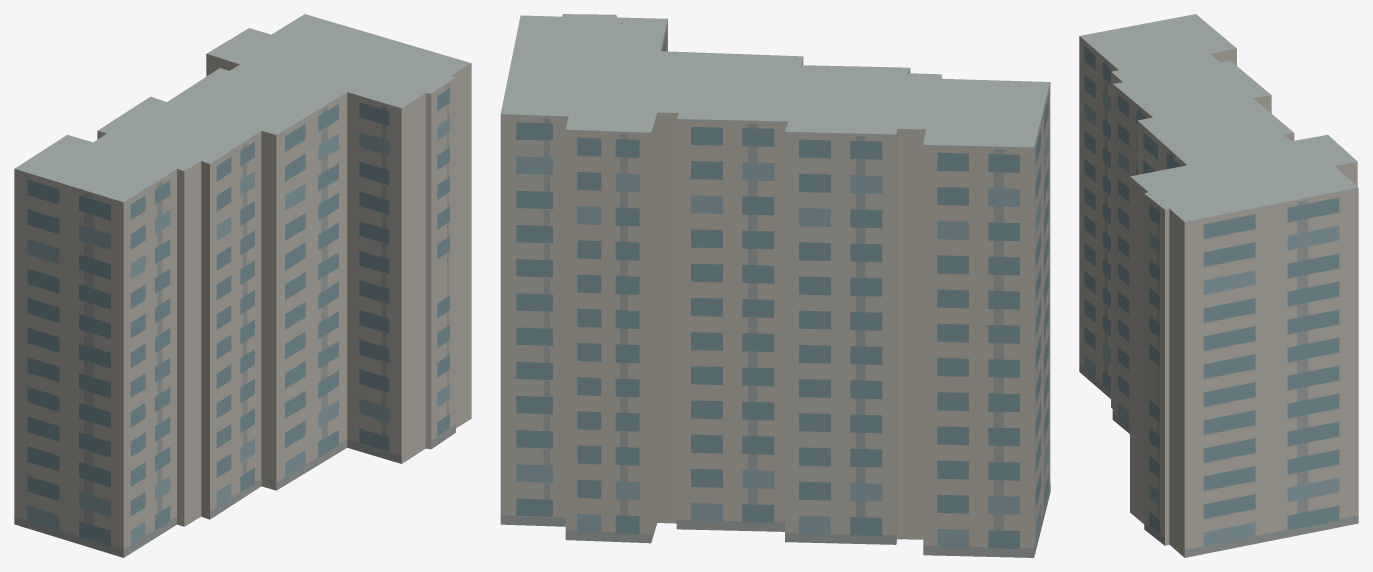
File: survey-upis-32982493.glb
3 renders of one model, left to right at view 1: azimuth 30°, elevation 25°; view 2: azimuth 150°, elevation 25°; view 3: azimuth 270°, elevation 25°, orthographic. The views are drawn at different scales.
Parts seen in each view (by area): view 1: survey-upis-32982493.tmp; view 2: survey-upis-32982493.tmp; view 3: survey-upis-32982493.tmp.
Part boxes in pixels (x1,y1,x2,y2): survey-upis-32982493.tmp: (14,14,471,557); survey-upis-32982493.tmp: (500,14,1050,557); survey-upis-32982493.tmp: (1079,14,1358,557).
Size of the model in its own units: 48.59 by 36.6 by 27.56.
